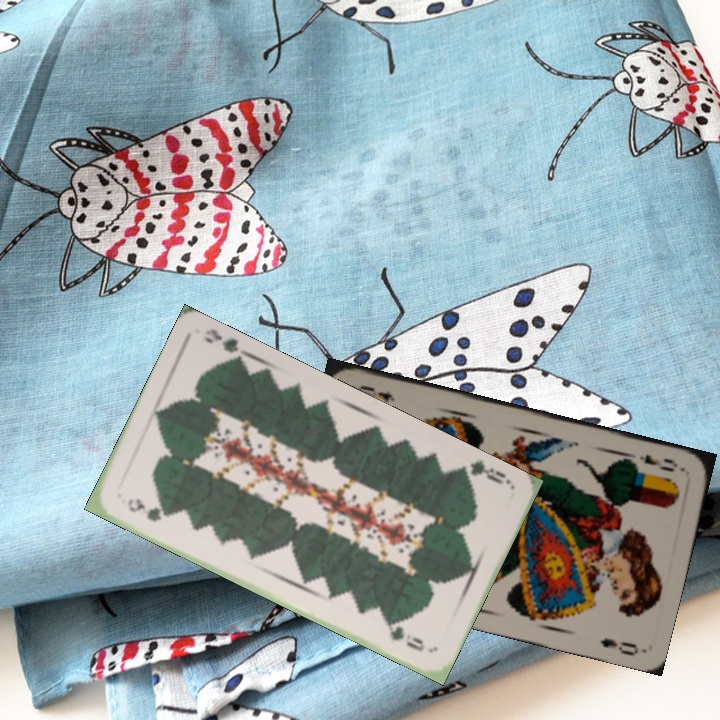EO: (635, 450, 681, 475)
G9: (454, 456, 514, 487), (123, 495, 171, 525)
